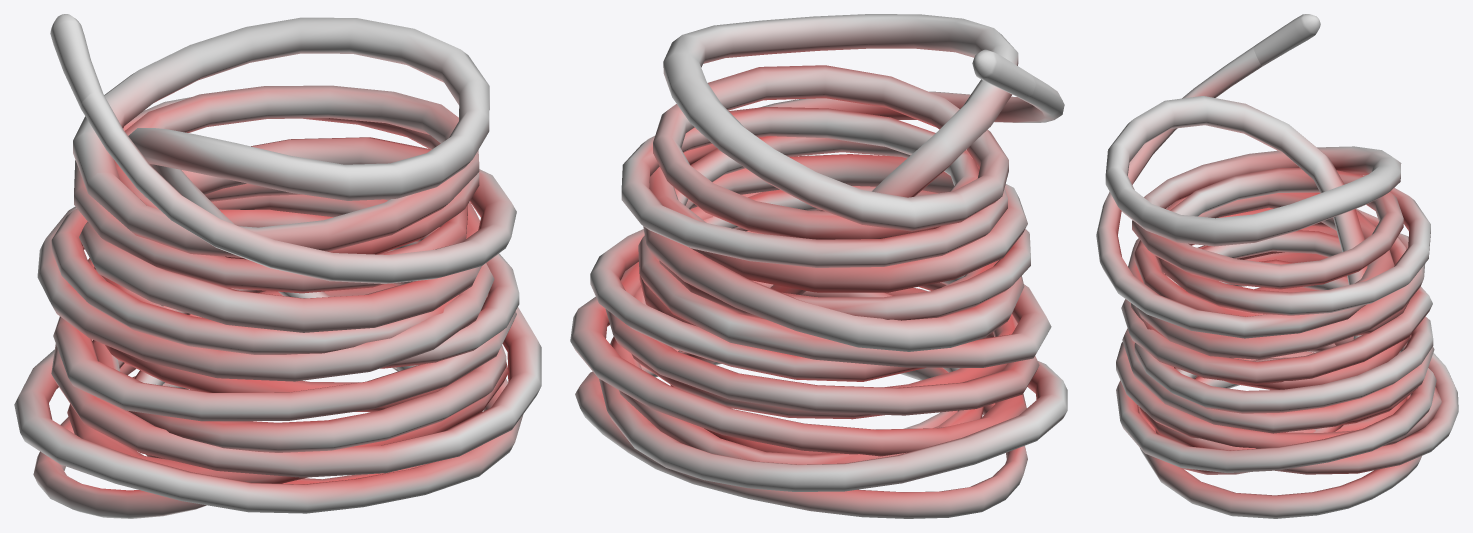
The model's file is SM_WEP_Eff_D101NJ2_frog_Tongue.glb.
The picture shows the model from 3 angles, left to right: view 1: azimuth 30°, elevation 25°; view 2: azimuth 150°, elevation 25°; view 3: azimuth 270°, elevation 25°; orthographic projection. The views are drawn at different scales.
Parts seen in each view (by area): view 1: SM_WEP_Eff_D101NJ2_frog_Tongue; view 2: SM_WEP_Eff_D101NJ2_frog_Tongue; view 3: SM_WEP_Eff_D101NJ2_frog_Tongue.
Part boxes in pixels (x1,y1,x2,y2): SM_WEP_Eff_D101NJ2_frog_Tongue: (14, 14, 541, 518); SM_WEP_Eff_D101NJ2_frog_Tongue: (570, 14, 1067, 518); SM_WEP_Eff_D101NJ2_frog_Tongue: (1096, 14, 1458, 518).
Size of the model in its own units: 0.837 by 0.7918 by 0.7169.
